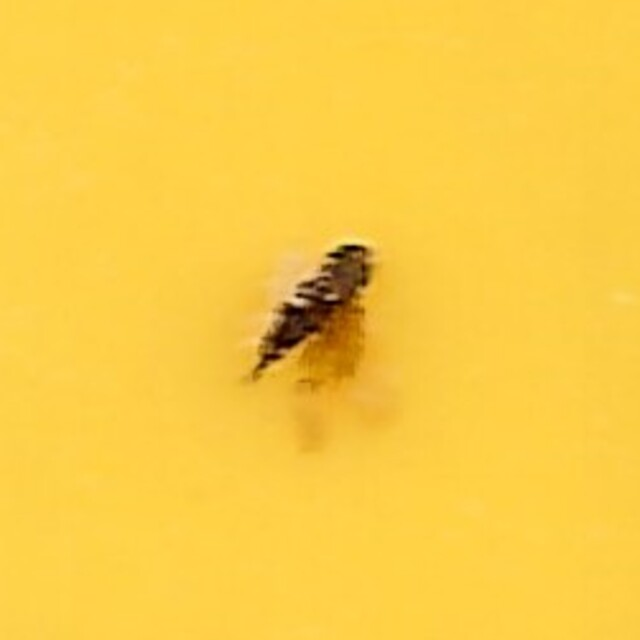Hemiptera: (255, 241, 385, 399)
